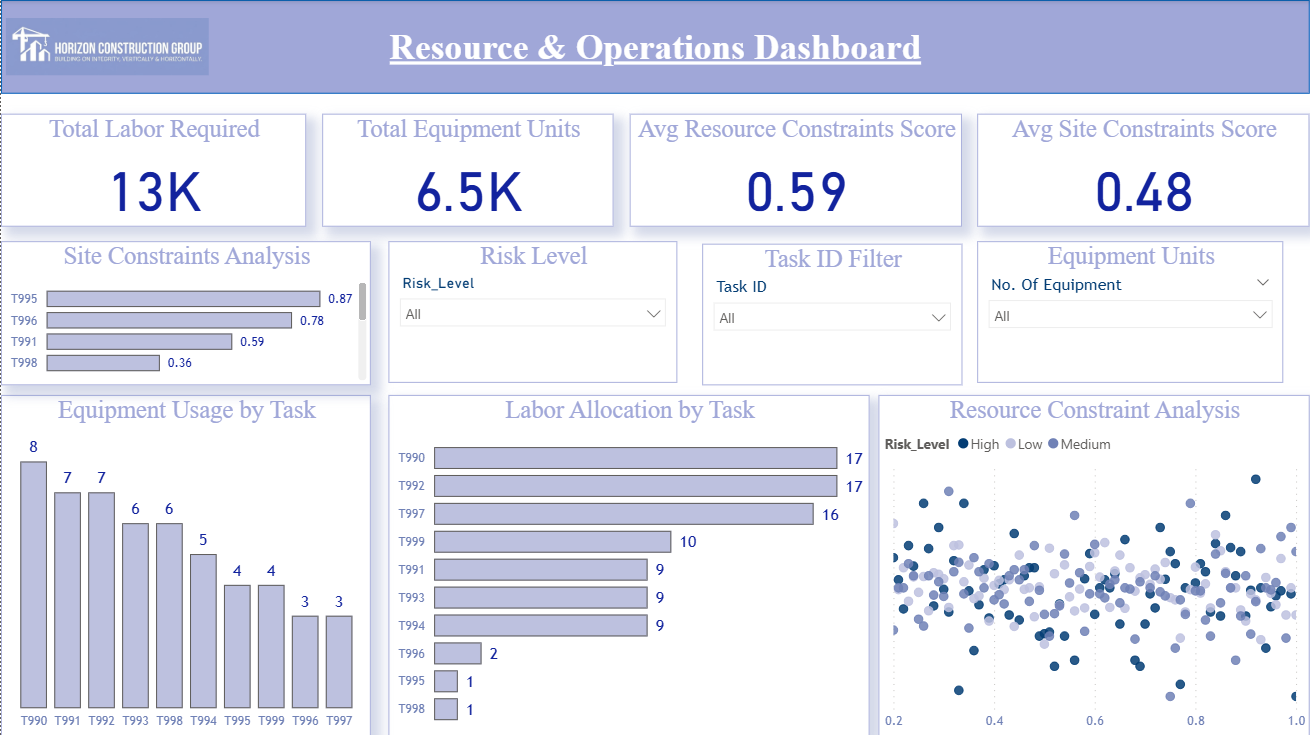

Layout of this report page (visuals, bound fields, positions):
{"tool":"powerbi","page":{"name":"Resource & Operations Dashboard","canvas":[1280,720],"ordinal":2},"visuals":[{"type":"shape","box":[0,0,1279.9,91.7],"z":0},{"type":"image","box":[0,0,207.8,91.7],"z":1000},{"type":"card","title":"Total Labor Required","fields":{"Values":[" Measures Table 1.Total Labor Required"]},"box":[0,111.2,298.3,110],"z":2000},{"type":"card","title":"Total Equipment Units","fields":{"Values":[" Measures Table 1.Total Equipment Units"]},"box":[314.2,111.2,284.8,110],"z":3000},{"type":"card","title":"Avg Resource Constraints Score","fields":{"Values":["Measures Table 3.Average Resource Constraints"]},"box":[614.9,111.2,325.2,110],"z":4000},{"type":"card","title":"Avg Site Constraints Score","fields":{"Values":["Measures Table 3.Average Site Constraints Score"]},"box":[954.7,111.2,325.2,110],"z":5000},{"type":"clusteredBarChart","title":"Labor Allocation by Task","fields":{"Category":["Fact Constructions.Task_ID"],"Y":["Sum(Fact Constructions.Labor_Required)"]},"box":[378.9,386.3,470.6,333.7],"z":6000},{"type":"clusteredColumnChart","title":"Equipment Usage by Task","fields":{"Y":["Sum(Fact Constructions.Equipment_Units)"],"Category":["Fact Constructions.Task_ID"]},"box":[0,386.3,361.8,333.7],"z":7000},{"type":"scatterChart","title":"Resource Constraint Analysis","fields":{"X":["Fact Constructions.Resource_Constraint_Score"],"Series":["Fact Constructions.Risk_Level"],"Y":["Avg(Fact Constructions.Labor_Required)"]},"box":[858.1,386.3,421.7,333.7],"z":8000},{"type":"clusteredBarChart","title":"Site Constraints Analysis","fields":{"Category":["Fact Constructions.Task_ID"],"Y":["Sum(Fact Constructions.Site_Constraint_Score)"]},"box":[0,235.9,361.8,140.6],"z":8001},{"type":"slicer","title":"Risk Level","fields":{"Values":["Dim Risk.Risk_Level"]},"box":[378.9,235.9,282.4,138.1],"z":8002},{"type":"slicer","title":"Task ID Filter","fields":{"Values":["Fact Constructions.Task_ID"]},"box":[685.8,238.4,254.3,138.1],"z":8003},{"type":"slicer","title":"Equipment Units","fields":{"Values":["Dim_Equipment.Equipment_Units"]},"box":[954.7,235.9,299.5,138.1],"z":8004}]}

Visuals, with their boxes in screenshot pixels (x1, y1, x2, y2), scaled from the page's 1280x720 canvas onto the 1310x735 screenshot:
shape: pyautogui.locateOnScreen(0, 0, 1309, 94)
image: pyautogui.locateOnScreen(0, 0, 213, 94)
"Total Labor Required" card: pyautogui.locateOnScreen(0, 114, 305, 226)
"Total Equipment Units" card: pyautogui.locateOnScreen(322, 114, 613, 226)
"Avg Resource Constraints Score" card: pyautogui.locateOnScreen(629, 114, 962, 226)
"Avg Site Constraints Score" card: pyautogui.locateOnScreen(977, 114, 1309, 226)
"Labor Allocation by Task" clusteredBarChart: pyautogui.locateOnScreen(388, 394, 869, 734)
"Equipment Usage by Task" clusteredColumnChart: pyautogui.locateOnScreen(0, 394, 370, 734)
"Resource Constraint Analysis" scatterChart: pyautogui.locateOnScreen(878, 394, 1309, 734)
"Site Constraints Analysis" clusteredBarChart: pyautogui.locateOnScreen(0, 241, 370, 384)
"Risk Level" slicer: pyautogui.locateOnScreen(388, 241, 677, 382)
"Task ID Filter" slicer: pyautogui.locateOnScreen(702, 243, 962, 384)
"Equipment Units" slicer: pyautogui.locateOnScreen(977, 241, 1284, 382)
